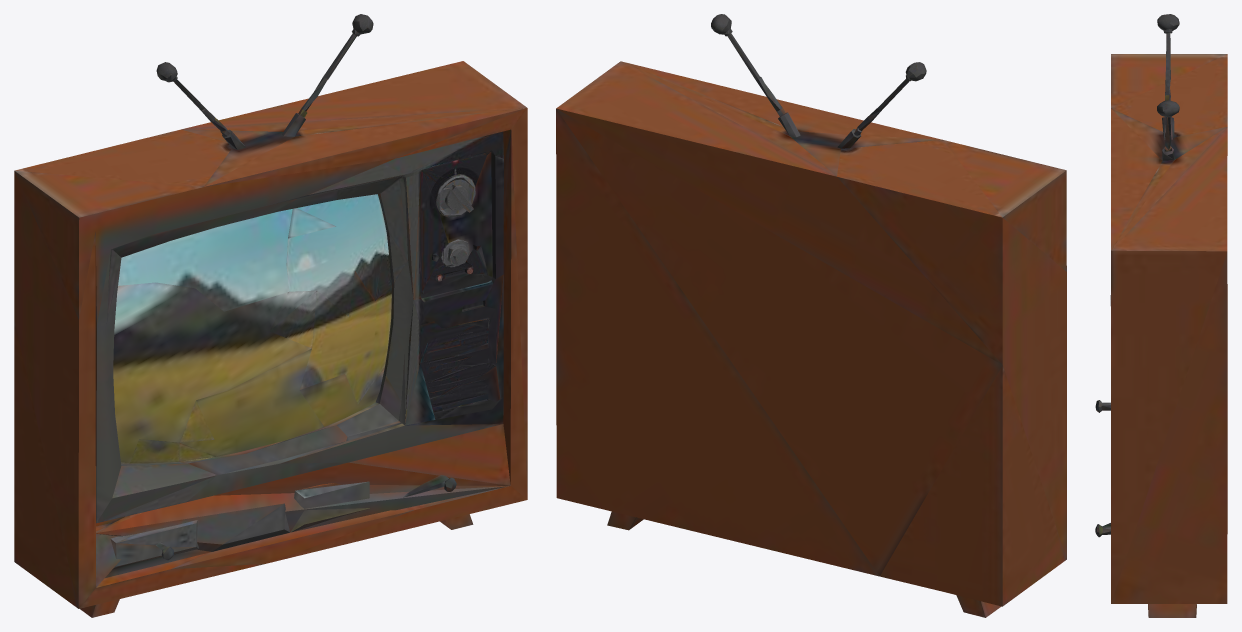
Rendered from tvCabinet.glb.
The picture shows the model from 3 angles, left to right: view 1: azimuth 30°, elevation 25°; view 2: azimuth 150°, elevation 25°; view 3: azimuth 270°, elevation 25°; orthographic projection. The views are drawn at different scales.
Size of the model in its own units: 1.7 by 1.9 by 0.482.
Materials: 1 (1 with a texture image).
